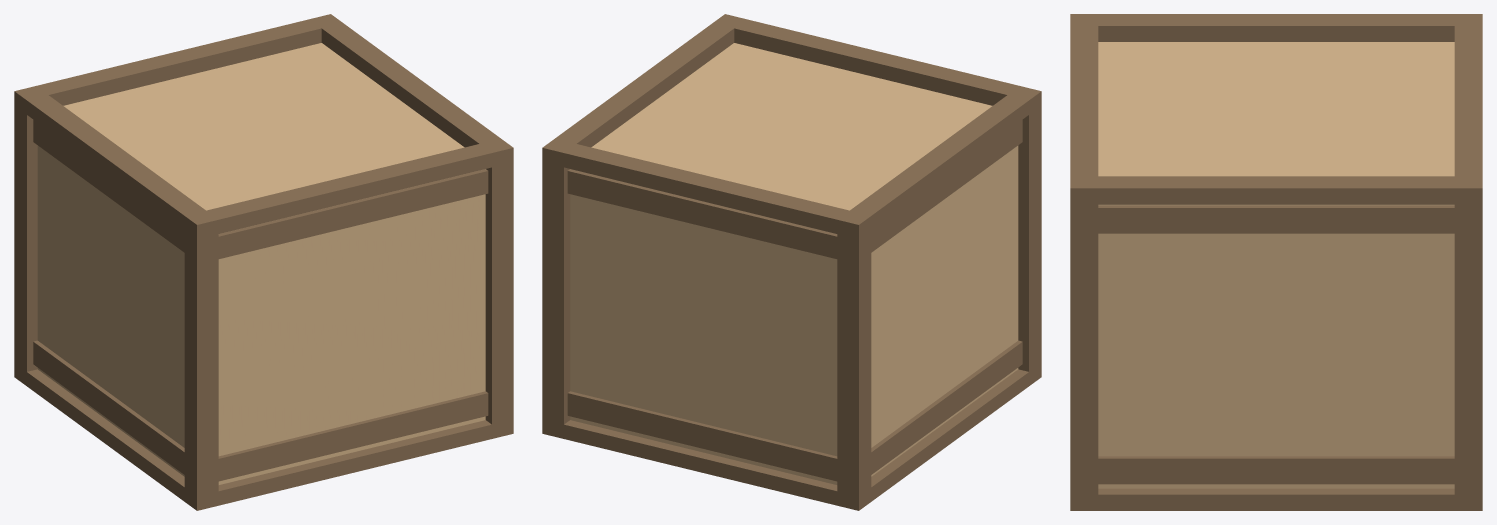
Rendered from grotto_crate-basic.fbx.
3 views of the same model, side by side, from view 1: azimuth 30°, elevation 25°; view 2: azimuth 150°, elevation 25°; view 3: azimuth 270°, elevation 25° (orthographic). The views are drawn at different scales.
Visible parts, largest first — view 1: Crate_Wood, Crate_CornerPost_3, Crate_CornerPost_1, Crate_TopFrame.001, Crate_TopFrame, Crate_Band.001, Crate_Band.005, Crate_CornerPost_2, Crate_BotFrame.001, Crate_TopFrame.003, Crate_TopFrame.002, Crate_Band.003 (+2 smaller); view 2: Crate_Wood, Crate_CornerPost_2, Crate_CornerPost_0, Crate_TopFrame, Crate_TopFrame.001, Crate_Band, Crate_Band.004, Crate_CornerPost_3, Crate_BotFrame, Crate_TopFrame.003, Crate_TopFrame.002, Crate_Band.003 (+2 smaller); view 3: Crate_Wood, Crate_Band.002, Crate_Band.006, Crate_TopFrame.002, Crate_TopFrame.003, Crate_CornerPost_0, Crate_CornerPost_1, Crate_BotFrame.002, Crate_TopFrame, Crate_TopFrame.001.
Part boxes in pixels (bbox=[...]): Crate_Wood: bbox=[37, 43, 485, 484]; Crate_CornerPost_3: bbox=[184, 210, 218, 510]; Crate_CornerPost_1: bbox=[480, 138, 513, 438]; Crate_TopFrame.001: bbox=[206, 144, 491, 233]; Crate_TopFrame: bbox=[36, 19, 321, 105]; Crate_Band.001: bbox=[218, 391, 488, 481]; Crate_Band.005: bbox=[218, 169, 488, 258]; Crate_CornerPost_2: bbox=[14, 86, 47, 385]; Crate_BotFrame.001: bbox=[218, 420, 491, 505]; Crate_TopFrame.003: bbox=[27, 95, 205, 229]; Crate_TopFrame.002: bbox=[321, 23, 500, 147]; Crate_Band.003: bbox=[33, 340, 184, 474]; Crate_Wood: bbox=[570, 43, 1018, 484]; Crate_CornerPost_2: bbox=[837, 210, 871, 510]; Crate_CornerPost_0: bbox=[542, 138, 575, 438]; Crate_TopFrame: bbox=[564, 144, 849, 233]; Crate_TopFrame.001: bbox=[734, 19, 1019, 105]; Crate_Band: bbox=[567, 391, 837, 481]; Crate_Band.004: bbox=[567, 169, 837, 258]; Crate_CornerPost_3: bbox=[1008, 86, 1041, 385]; Crate_BotFrame: bbox=[564, 420, 837, 505]; Crate_TopFrame.003: bbox=[850, 95, 1028, 229]; Crate_TopFrame.002: bbox=[555, 23, 734, 147]; Crate_Band.003: bbox=[871, 340, 1022, 474]; Crate_Wood: bbox=[1098, 42, 1454, 488]; Crate_Band.002: bbox=[1098, 456, 1454, 484]; Crate_Band.006: bbox=[1098, 205, 1454, 233]; Crate_TopFrame.002: bbox=[1098, 176, 1454, 204]; Crate_TopFrame.003: bbox=[1098, 14, 1454, 41]; Crate_CornerPost_0: bbox=[1454, 176, 1482, 510]; Crate_CornerPost_1: bbox=[1070, 176, 1098, 510]; Crate_BotFrame.002: bbox=[1098, 488, 1454, 510]; Crate_TopFrame: bbox=[1454, 26, 1482, 176]; Crate_TopFrame.001: bbox=[1070, 26, 1098, 176].
Size of the model in its own units: 322 by 278 by 322.
